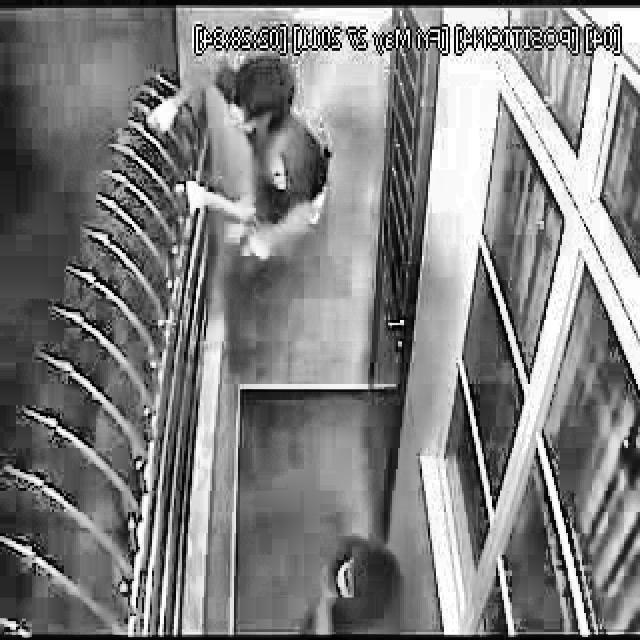burglary: (147, 55, 340, 374), (292, 532, 412, 633)
